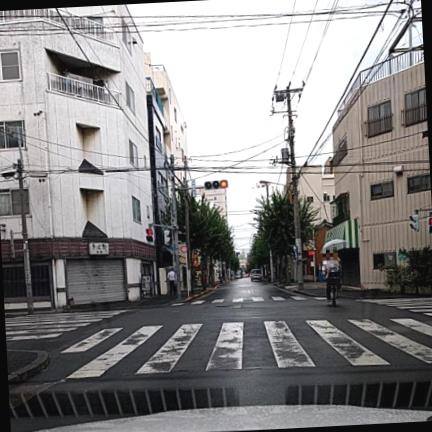Road: (5, 279, 431, 431)
